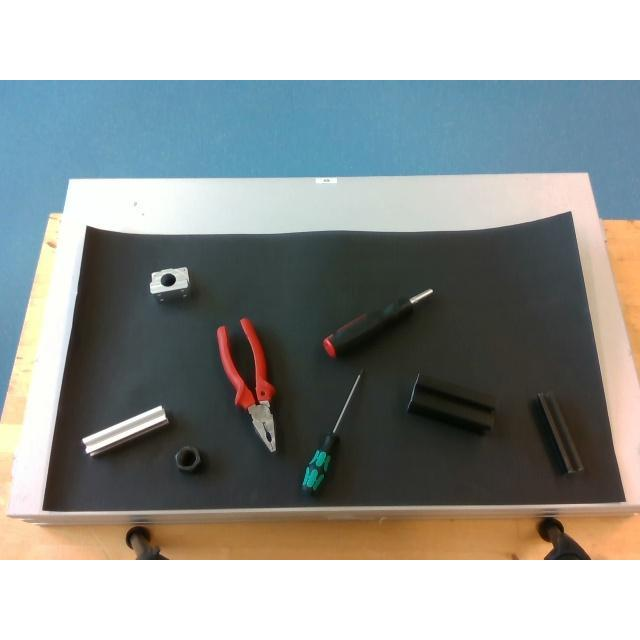F20_20_B: (537, 391, 583, 473)
F20_20_G: (82, 406, 168, 454)
M20: (174, 446, 202, 470)
S40_40_B: (408, 371, 496, 433)
Screwdriver: (299, 368, 363, 497)
